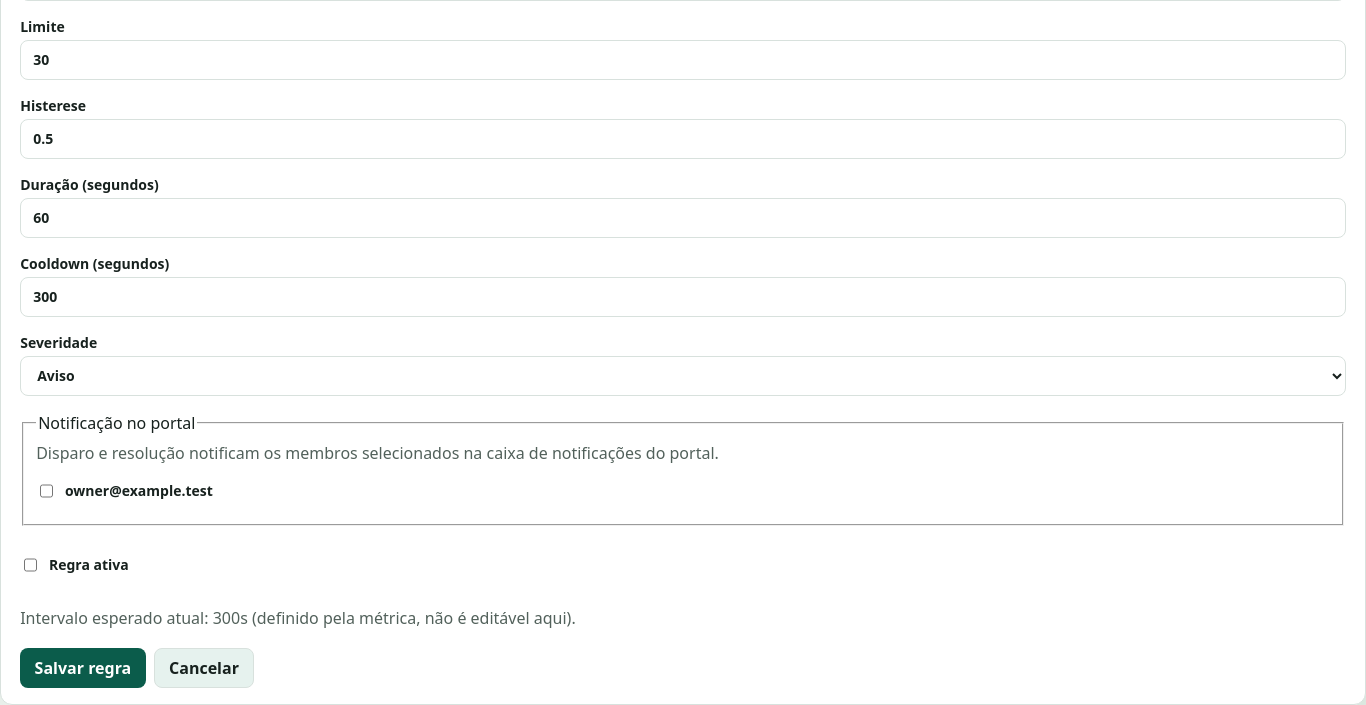
Test: AlertRuleFormPage › mostra uma mensagem específica quando o servidor recusa por conflito de versão (409)
The width and height of the screenshot is (1366, 705).
(page scrolled)
Click the button "Salvar regra": (83, 668) [20, 648, 146, 688]
(page scrolled)
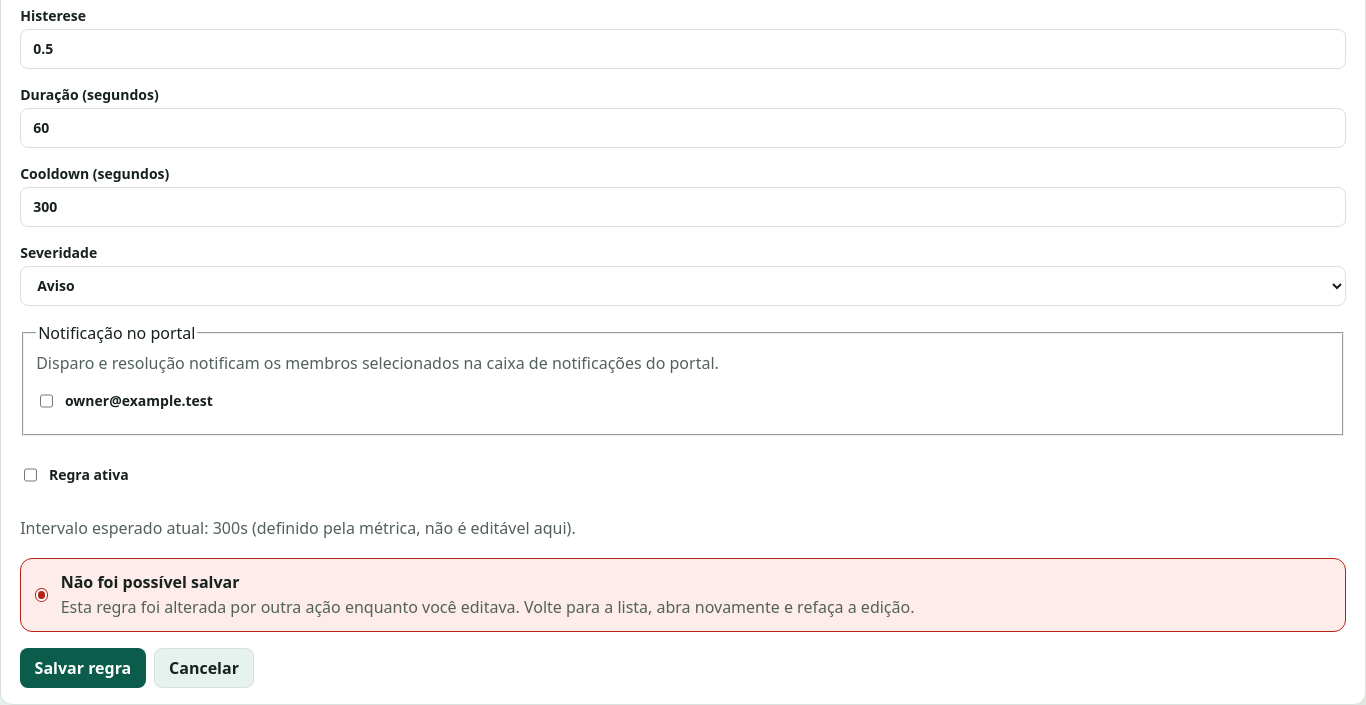
Check: the text "alterada por outra ação enquanto você editava" is shown, box [61, 596, 914, 618]
